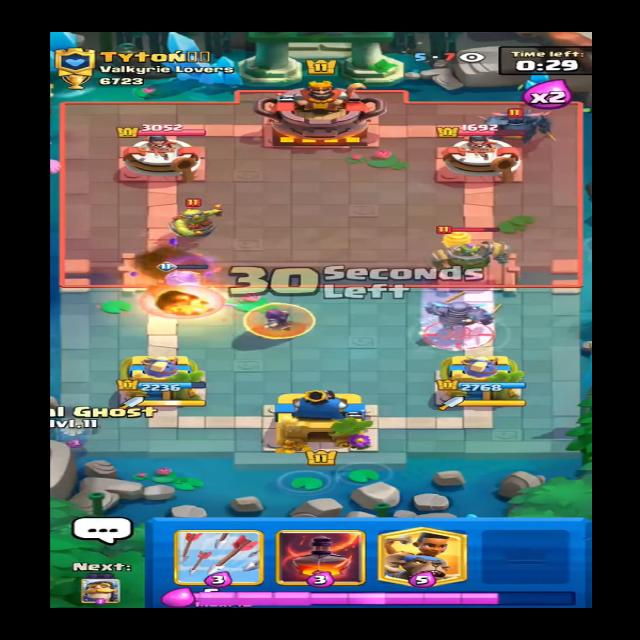goblin-demolisher: (155, 201, 237, 242)
goblin-machine: (426, 224, 517, 273)
pekka: (474, 103, 558, 143)
